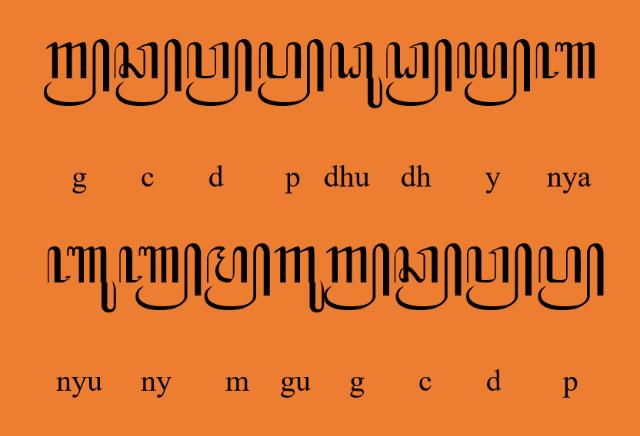-c: (114, 38, 182, 108), (393, 244, 462, 312)
-d: (185, 39, 252, 107), (467, 243, 533, 311)
-dh: (385, 38, 453, 108)
-g: (324, 243, 391, 312), (44, 38, 110, 106)
-m: (204, 244, 272, 312)
-ny: (119, 243, 203, 312)
-p: (258, 37, 326, 107), (538, 243, 604, 312)
-y: (456, 39, 532, 107)
dhu: (331, 42, 384, 110)
gu: (274, 246, 324, 314)
ny1: (536, 42, 596, 80)
nyu1: (47, 245, 117, 313)
